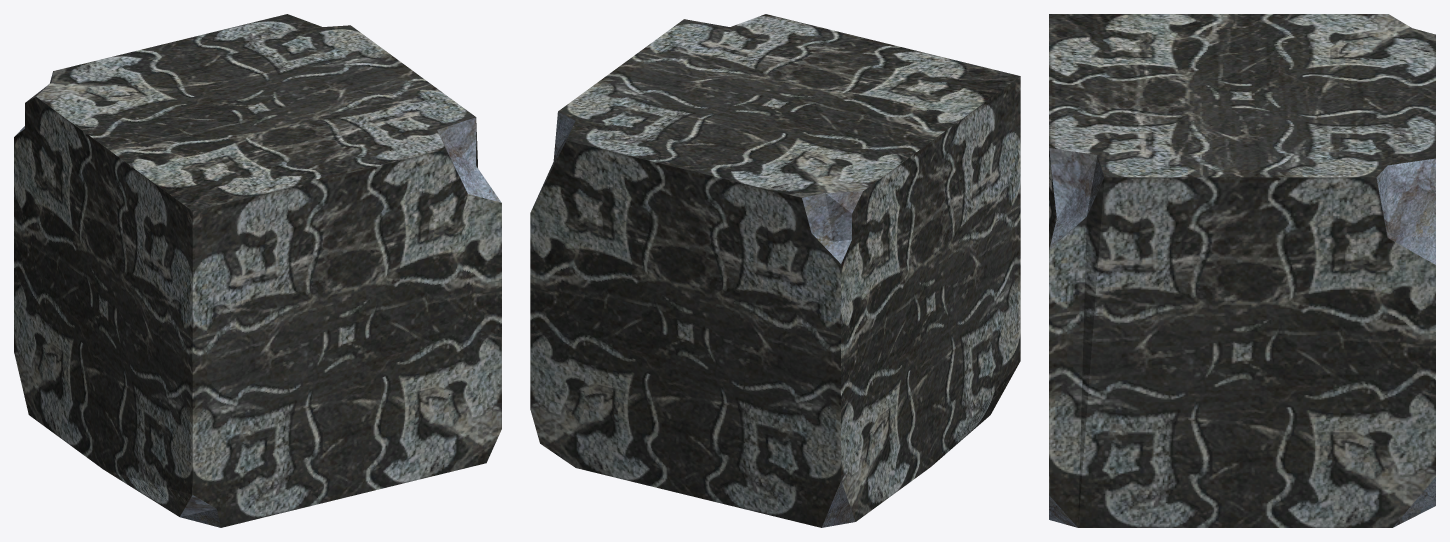
File: EnemyStone.gltf
The picture shows the model from 3 angles, left to right: view 1: azimuth 30°, elevation 25°; view 2: azimuth 150°, elevation 25°; view 3: azimuth 270°, elevation 25°; orthographic projection. The views are drawn at different scales.
Visible parts, largest first — view 1: EnemyStone; view 2: EnemyStone; view 3: EnemyStone.
Part boxes in pixels (<box>): EnemyStone: <box>14,14,501,527</box>; EnemyStone: <box>530,14,1020,527</box>; EnemyStone: <box>1049,14,1435,527</box>.
Bounding box in the file's own units: 2 × 2 × 2.
Materials: 2 (2 with a texture image).
